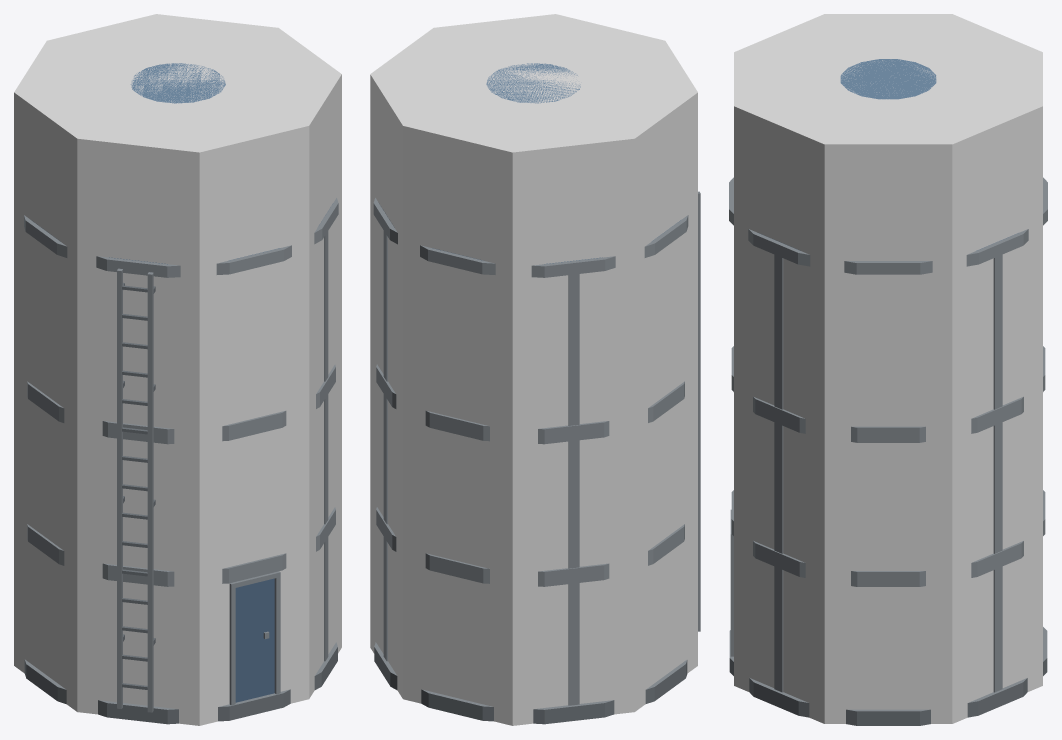
The model's file is FMS_Silo.fbx.
3 renders of one model, left to right at view 1: azimuth 30°, elevation 25°; view 2: azimuth 150°, elevation 25°; view 3: azimuth 270°, elevation 25°, orthographic.
Parts seen in each view (by area): view 1: FMS_Silo_Col, FMS_Silo_LOD0; view 2: FMS_Silo_Col, FMS_Silo_LOD0; view 3: FMS_Silo_Col, FMS_Silo_LOD0.
Boxes of the visible parts, left/top/right/bottom form: FMS_Silo_Col: left=14, top=14, right=341, bottom=725; FMS_Silo_LOD0: left=24, top=63, right=338, bottom=724; FMS_Silo_Col: left=370, top=14, right=697, bottom=725; FMS_Silo_LOD0: left=373, top=63, right=700, bottom=724; FMS_Silo_Col: left=734, top=14, right=1042, bottom=723; FMS_Silo_LOD0: left=729, top=59, right=1047, bottom=725.
Size of what is drawn, in the model's own units: 4.96 by 9.95 by 4.96.
1 material, 1 textured.
